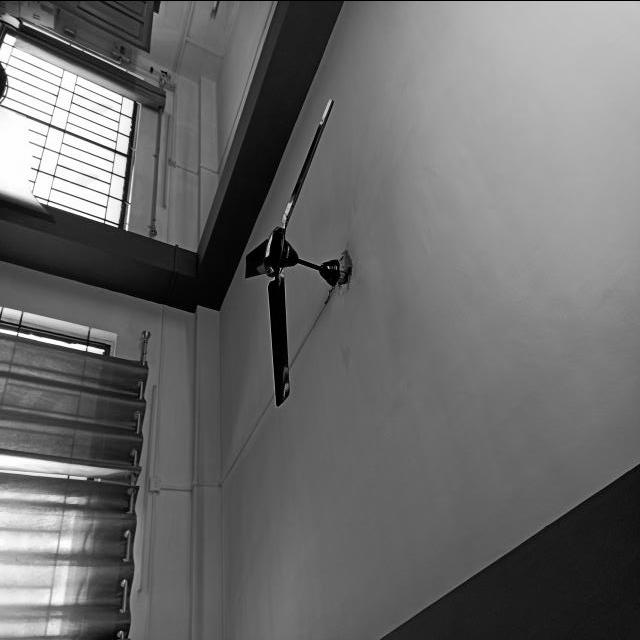fan: (245, 97, 354, 406)
